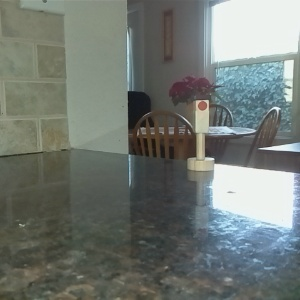traffic light red: (185, 93, 215, 172)
